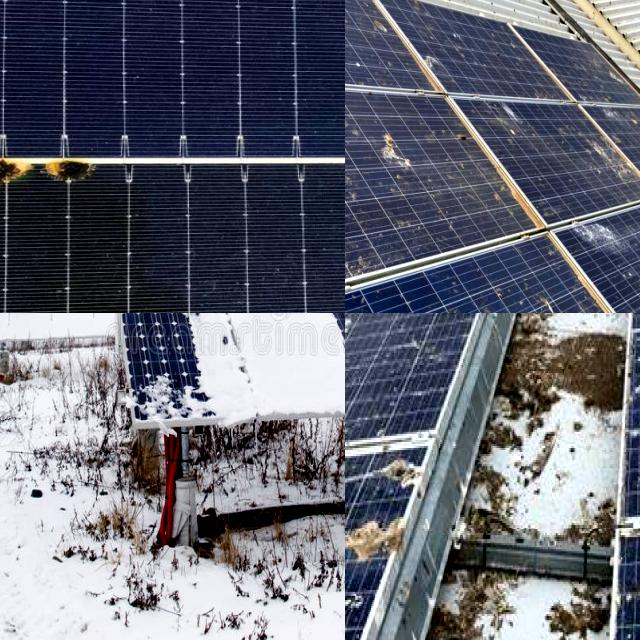bird: (372, 83, 426, 190), (345, 450, 440, 494), (481, 90, 538, 158), (345, 517, 423, 565), (569, 214, 628, 260), (345, 43, 380, 112), (345, 159, 380, 226), (345, 199, 368, 272), (345, 234, 380, 276), (345, 449, 368, 499), (428, 313, 486, 329), (345, 585, 365, 624), (454, 112, 466, 166), (473, 293, 495, 313)
panel: (137, 313, 236, 430), (156, 313, 303, 380), (220, 313, 324, 351), (315, 313, 345, 433), (0, 313, 127, 340), (0, 313, 25, 358), (0, 313, 26, 343)
shadow: (0, 143, 122, 204)
